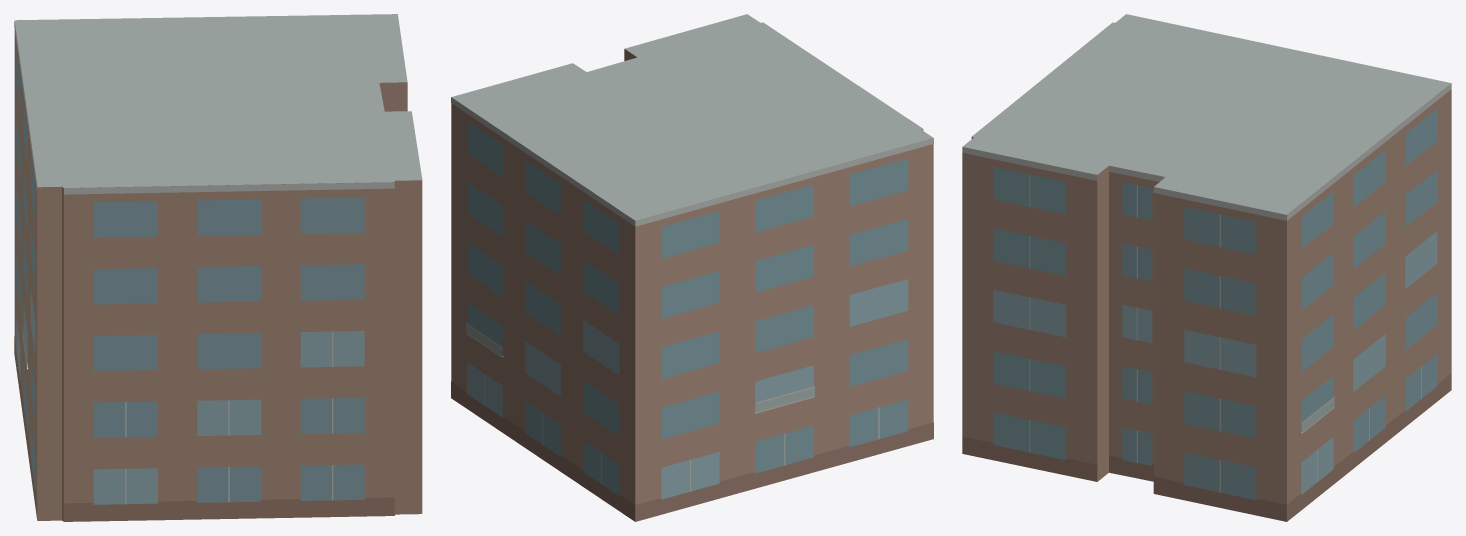
The model's file is survey-upis-32656129.glb.
The picture shows the model from 3 angles, left to right: view 1: azimuth 30°, elevation 25°; view 2: azimuth 150°, elevation 25°; view 3: azimuth 270°, elevation 25°; orthographic projection. The views are drawn at different scales.
Visible parts, largest first — view 1: survey-upis-32656129.tmp; view 2: survey-upis-32656129.tmp; view 3: survey-upis-32656129.tmp.
Boxes of the visible parts, bbox=[...] form: survey-upis-32656129.tmp: bbox=[14, 14, 422, 521]; survey-upis-32656129.tmp: bbox=[451, 14, 933, 521]; survey-upis-32656129.tmp: bbox=[962, 14, 1451, 521].
Bounding box in the file's own units: 17.56 × 12.5 × 18.06.
